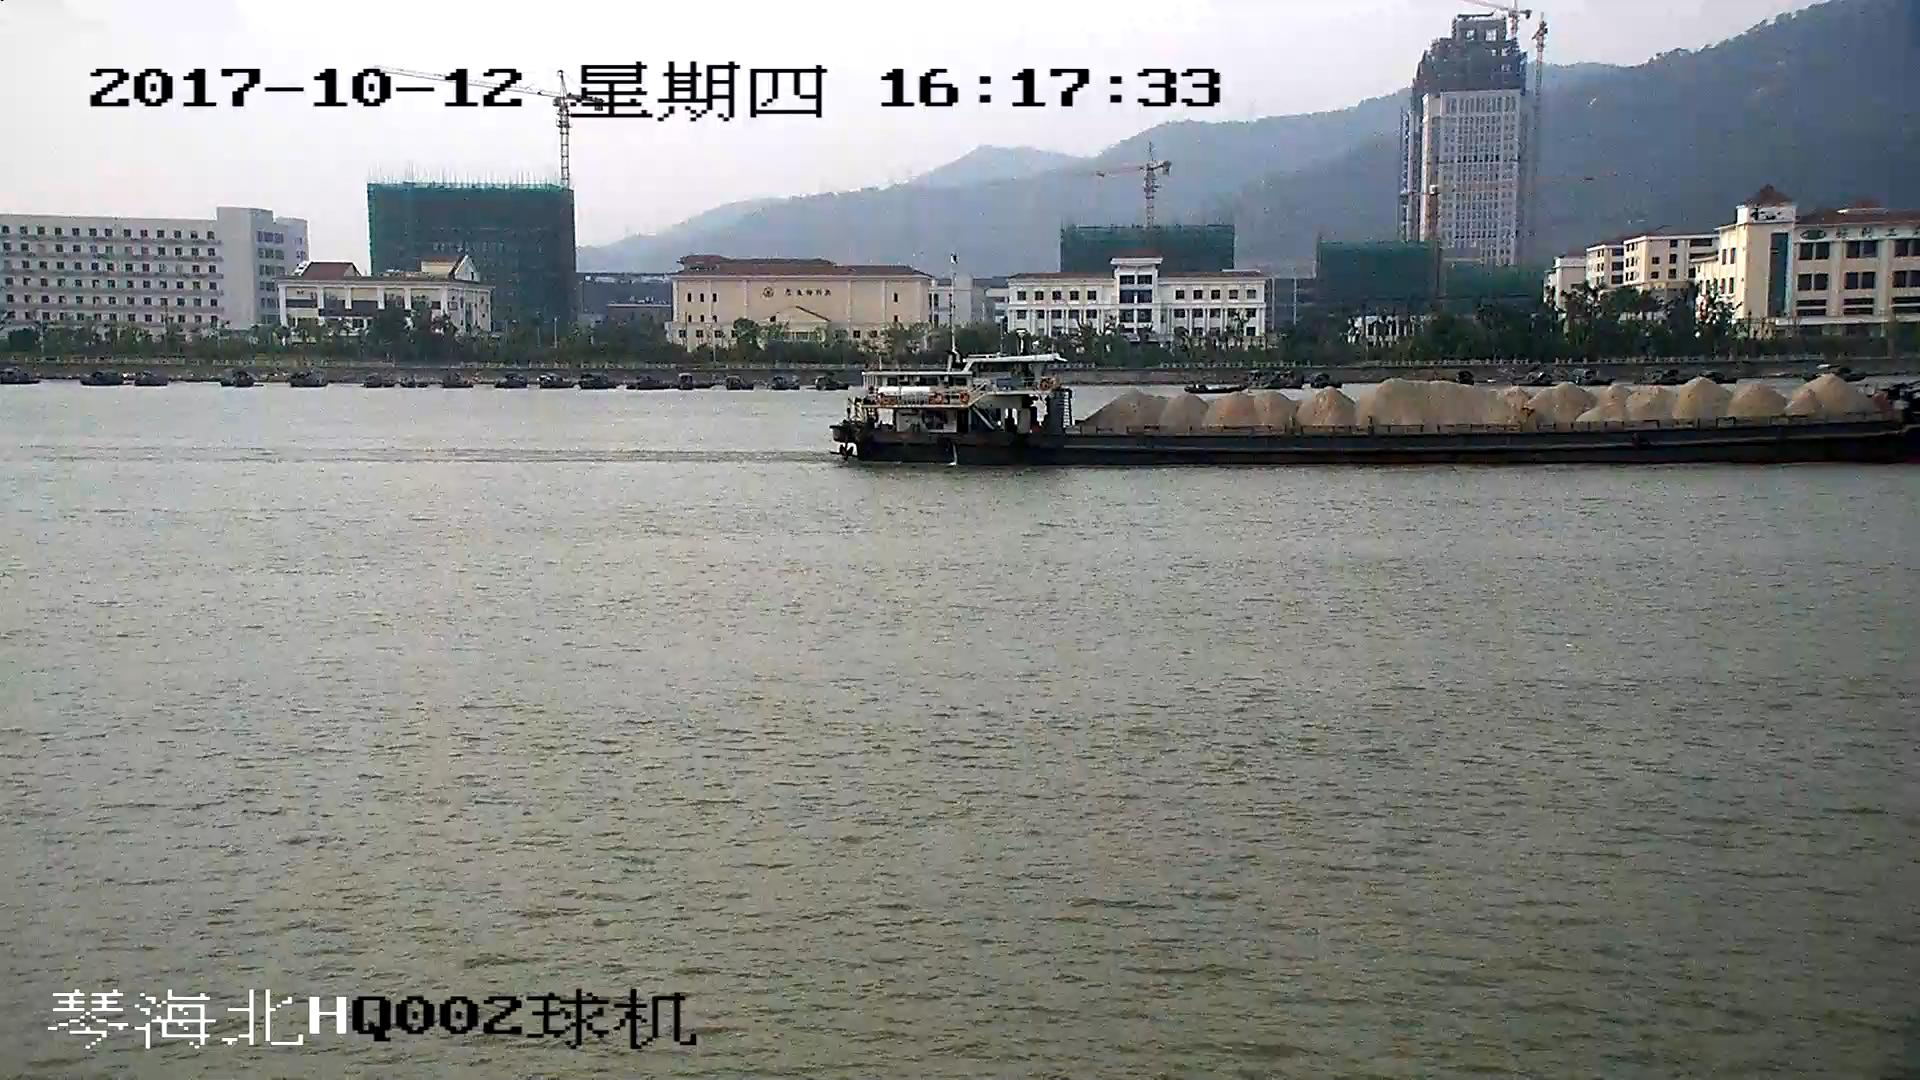ore carrier: (825, 362, 1920, 466)
